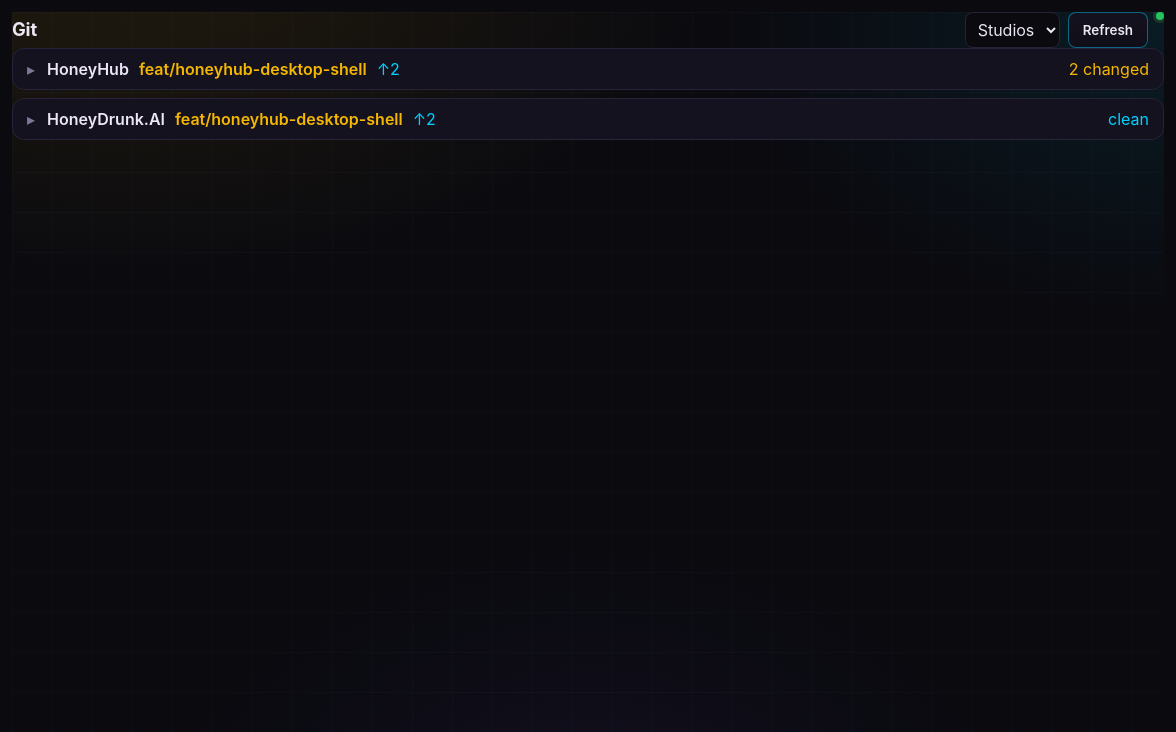
Scenario: GitView › runs a write op (stage) and shows feedback
Click the button "▸ HoneyHub feat/honeyhub-desktop-shell ↑2 2 changed".
click(88, 69)  # box [13, 49, 1163, 89]
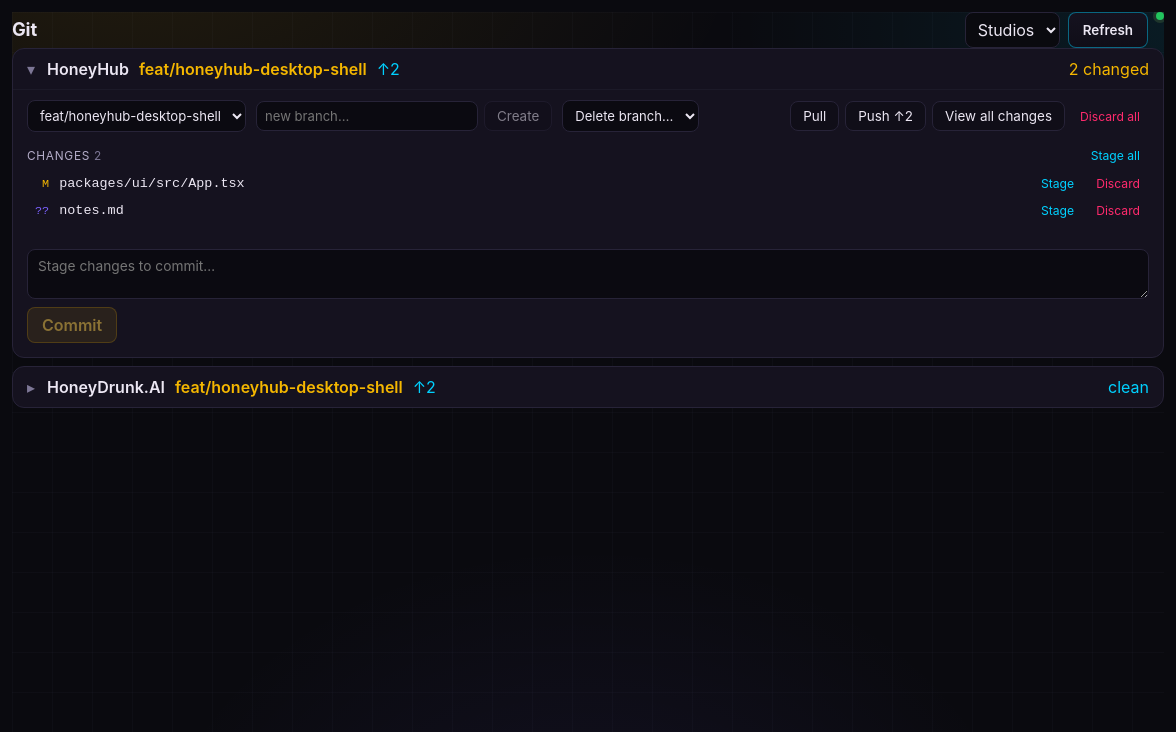
Result: the text "packages/ui/src/App.tsx" is shown at [59, 176, 245, 191]
Click the button "Stage all".
click(1115, 156)  # box [1082, 144, 1149, 167]
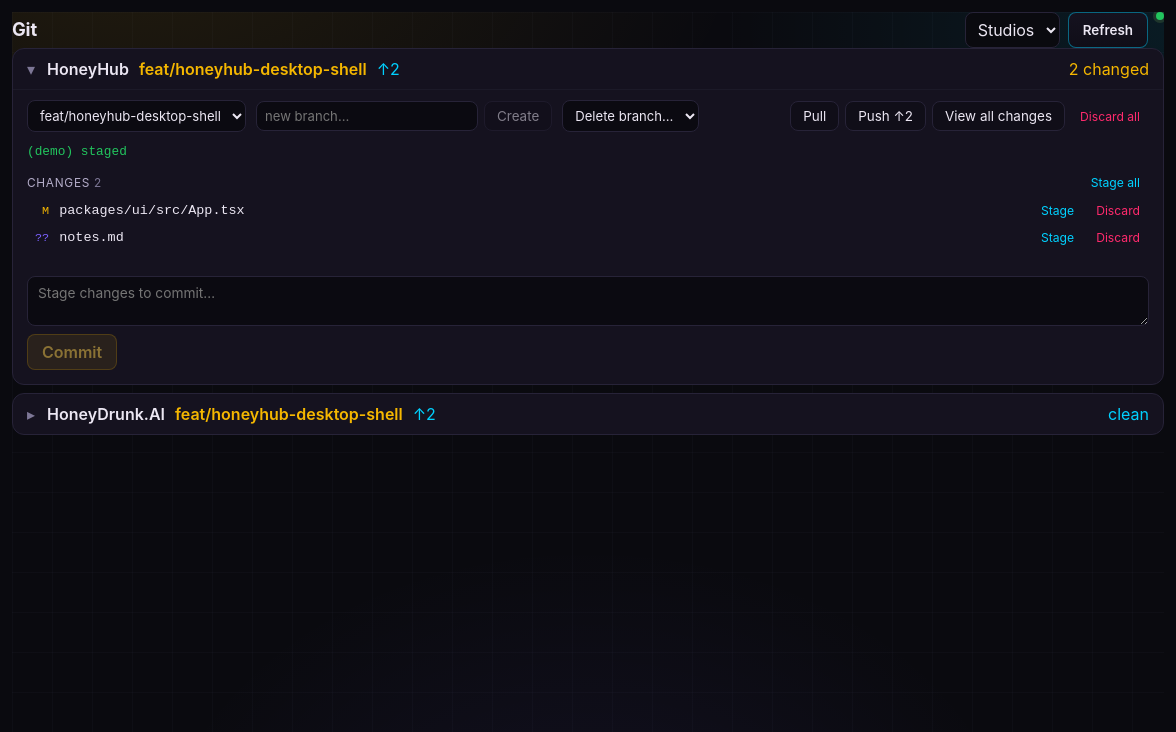
Result: the text "(demo) staged" is shown at [27, 144, 127, 159]
